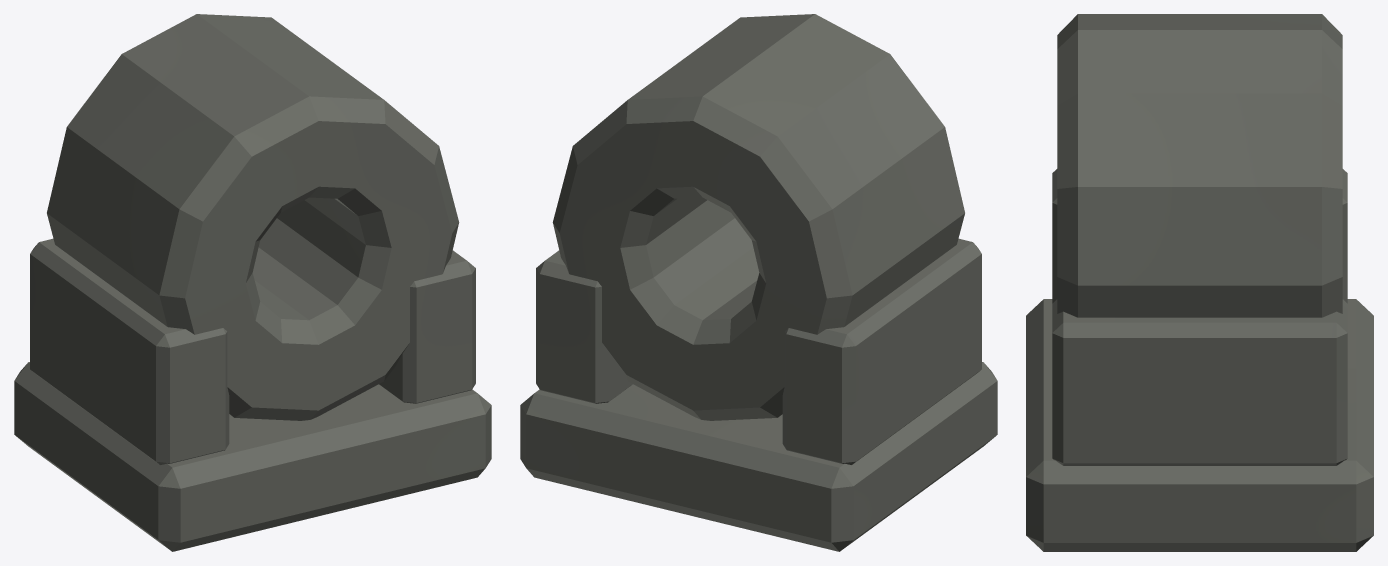
The model's file is WarrensC_CCS25_AxleBearingBlock_Mars_SM.fbx.
3 renders of one model, left to right at view 1: azimuth 30°, elevation 25°; view 2: azimuth 150°, elevation 25°; view 3: azimuth 270°, elevation 25°, orthographic. The views are drawn at different scales.
Visible parts, largest first — view 1: WarrensC_CCS25_AxleBearingBlock_Mars_SM.001; view 2: WarrensC_CCS25_AxleBearingBlock_Mars_SM.001; view 3: WarrensC_CCS25_AxleBearingBlock_Mars_SM.001.
Boxes of the visible parts, box(x1,y1,x2,y2) form: WarrensC_CCS25_AxleBearingBlock_Mars_SM.001: box(14, 14, 491, 551); WarrensC_CCS25_AxleBearingBlock_Mars_SM.001: box(520, 14, 997, 551); WarrensC_CCS25_AxleBearingBlock_Mars_SM.001: box(1026, 14, 1373, 551).
Bounding box in the file's own units: 30 × 25 × 35.
